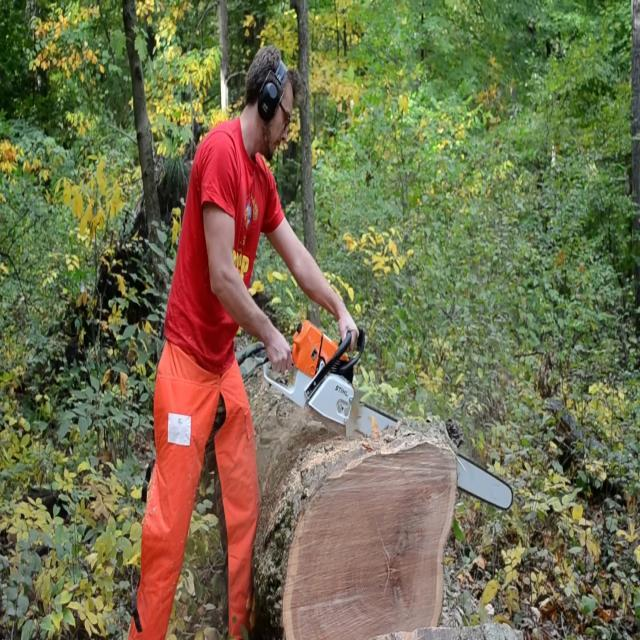Chainsaw: (258, 316, 530, 524)
